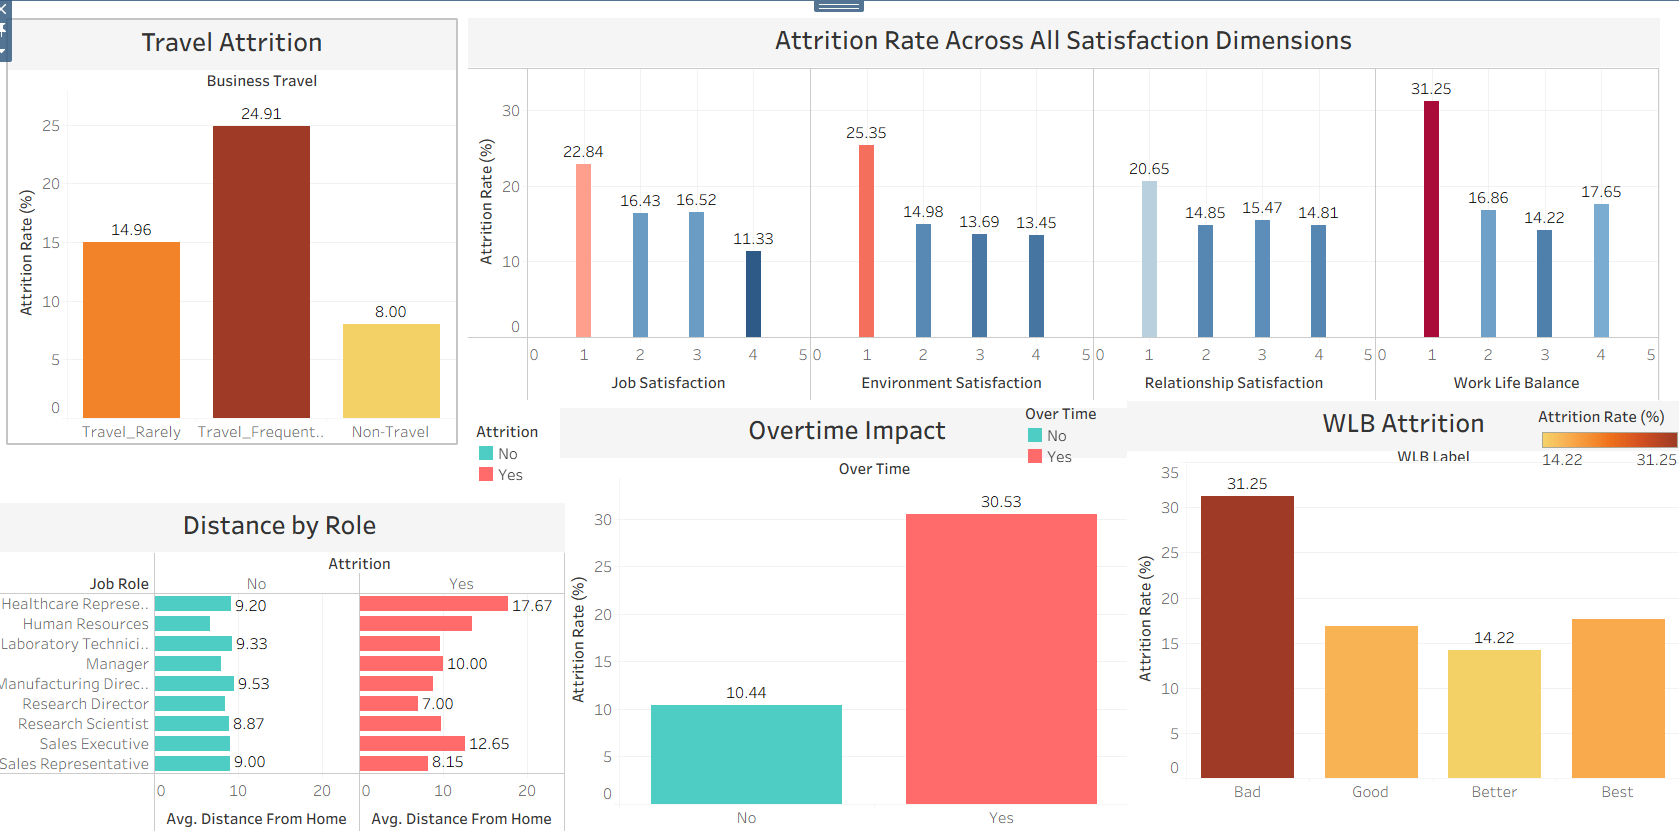

Layout of this report page (visuals, bound fields, positions):
{"tool":"tableau","page":{"name":"Risk Factors Deep Dive","canvas":[1000,1000],"units":"permille","ordinal":3},"visuals":[{"type":"worksheet","title":"Attrition Rate Across All Satisfaction Dimensions","mark":"Bar","rows":["Calculation_19502924076507136"],"cols":["JobSatisfaction","EnvironmentSatisfaction","RelationshipSatisfaction","WorkLifeBalance"],"box":[282.1,29.4,698.6,450.1]},{"type":"worksheet","title":"Travel Attrition","mark":"Automatic","rows":["Calculation_19502924076507136"],"cols":["BusinessTravel"],"box":[12.7,31.7,262.5,497.1]},{"type":"worksheet","title":"WLB Attrition","mark":"Bar","rows":["Calculation_19502924076507136"],"cols":["WLBLabel"],"box":[668.5,479.4,323.7,472.4]},{"type":"legend","title":" Overtime Impact","param":"[federated.0ozdfbu1gxy1kc16nmb0w1wolmpg].[none:OverTime:nk]","box":[608.9,481.8,42.9,99.9]},{"type":"legend","title":"WLB Attrition","param":"[federated.0ozdfbu1gxy1kc16nmb0w1wolmpg].[usr:Calculation_19502924076507136:qk]","box":[909,485.3,84.4,103.4]},{"type":"worksheet","title":" Overtime Impact","mark":"Automatic","rows":["Calculation_19502924076507136"],"cols":["OverTime"],"box":[336.4,487.7,333.3,494.7]},{"type":"legend","title":"Distance by Role","param":"[federated.0ozdfbu1gxy1kc16nmb0w1wolmpg].[none:Attrition:nk]","box":[287.3,502.9,43.5,104.6]},{"type":"worksheet","title":"Distance by Role","mark":"Automatic","rows":["JobRole"],"cols":["Attrition","DistanceFromHome"],"box":[4.8,599.3,334.5,392.5]}]}

Visuals, with their boxes on the dashboard's canvas, which has no fixed pixel size, in thousandths of its width and height (x1, y1, x2, y2). These are canvas units, not pixel positions in the 1679x831 screenshot, which may show the page scaled, cropped or inside an application window:
"Attrition Rate Across All Satisfaction Dimensions" worksheet (Bar marks): detection(282, 29, 981, 480)
"Travel Attrition" worksheet: detection(13, 32, 275, 529)
"WLB Attrition" worksheet (Bar marks): detection(668, 479, 992, 952)
" Overtime Impact" legend: detection(609, 482, 652, 582)
"WLB Attrition" legend: detection(909, 485, 993, 589)
" Overtime Impact" worksheet: detection(336, 488, 670, 982)
"Distance by Role" legend: detection(287, 503, 331, 608)
"Distance by Role" worksheet: detection(5, 599, 339, 992)
